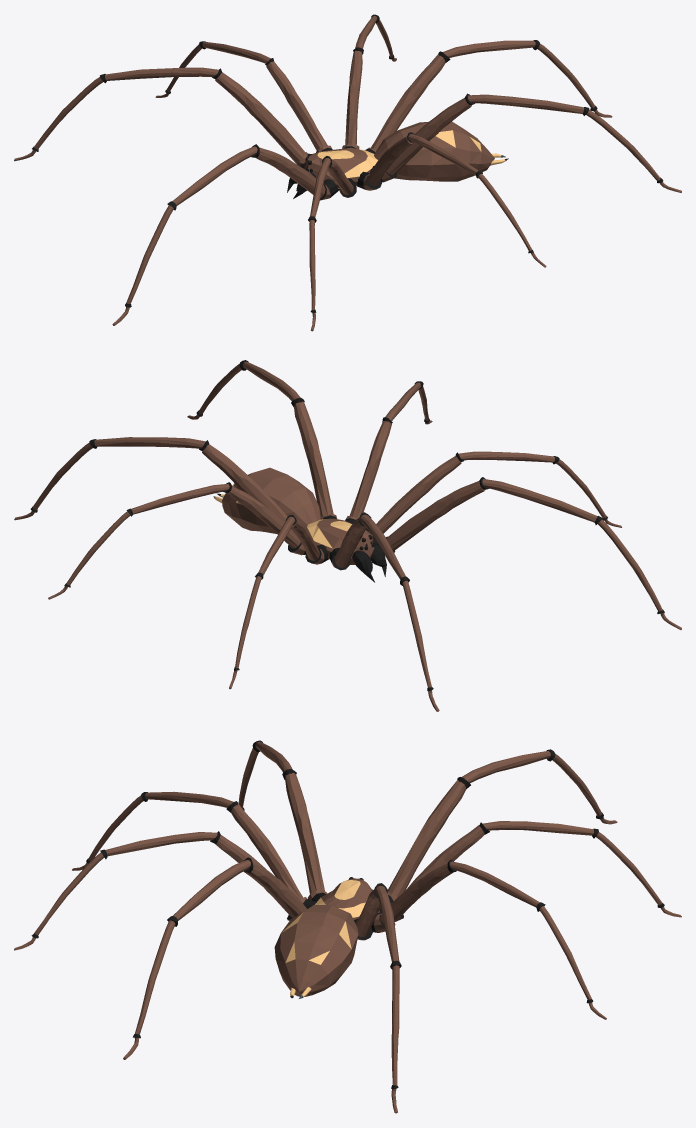
File: Giant Spider.glb
3 views of the same model, one above another, from view 1: azimuth 30°, elevation 25°; view 2: azimuth 150°, elevation 25°; view 3: azimuth 270°, elevation 25° (orthographic). The views are drawn at different scales.
Visible parts, largest first — view 1: group423670962, group513928747, group1527940484, group888014332, group1104609954, group1101507302, group1946732356, group881726422, group1227176505, group1914945794, group635251391, group82012429 (+10 smaller); view 2: group423670962, group1527940484, group1914945794, group1104609954, group1974204301, group888014332, group1378341554, group635251391, group82012429, group1946732356, group2092966720, group1401908631 (+10 smaller); view 3: group423670962, group513928747, group1914945794, group1974204301, group1527940484, group1104609954, group1946732356, group643759245, group450192717, group881726422, group1227176505, group1101507302 (+9 smaller).
Boxes of the visible parts, box(x1,y1,x2,y2) form: group423670962: box(374, 121, 508, 181); group513928747: box(215, 72, 305, 164); group1527940484: box(287, 147, 377, 198); group888014332: box(371, 54, 445, 150); group1104609954: box(386, 98, 471, 175); group1101507302: box(266, 61, 327, 150); group1946732356: box(345, 50, 362, 144); group881726422: box(468, 94, 584, 113); group1227176505: box(105, 67, 218, 80); group1914945794: box(255, 147, 325, 197); group635251391: box(172, 146, 257, 205); group82012429: box(442, 40, 535, 57); group423670962: box(213, 467, 321, 533); group1527940484: box(307, 518, 386, 582); group1914945794: box(387, 481, 485, 551); group1104609954: box(294, 401, 333, 516); group1974204301: box(376, 456, 461, 533); group888014332: box(202, 444, 287, 521); group1378341554: box(349, 421, 391, 518); group635251391: box(482, 479, 597, 522); group82012429: box(94, 437, 205, 448); group1946732356: box(226, 486, 300, 548); group2092966720: box(131, 484, 229, 514); group1401908631: box(458, 451, 555, 462); group423670962: box(274, 905, 358, 998); group513928747: box(388, 780, 466, 897); group1914945794: box(285, 773, 324, 893); group1974204301: box(231, 804, 303, 899); group1527940484: box(315, 877, 379, 919); group1104609954: box(243, 862, 306, 918); group1946732356: box(380, 863, 453, 923); group643759245: box(105, 832, 217, 856); group450192717: box(483, 821, 593, 835); group881726422: box(173, 860, 250, 920); group1227176505: box(461, 751, 550, 782); group1101507302: box(402, 825, 484, 914).
Size of the model in its own units: 2.78 by 0.6517 by 2.46.
